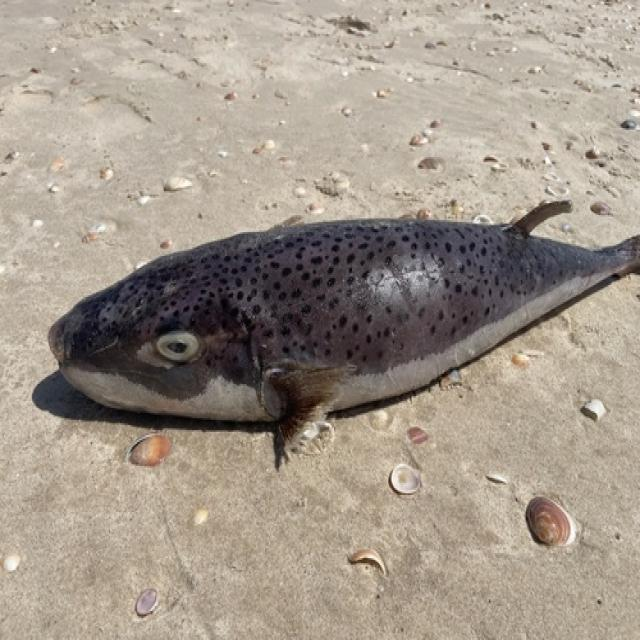Balik: (49, 202, 639, 442)
